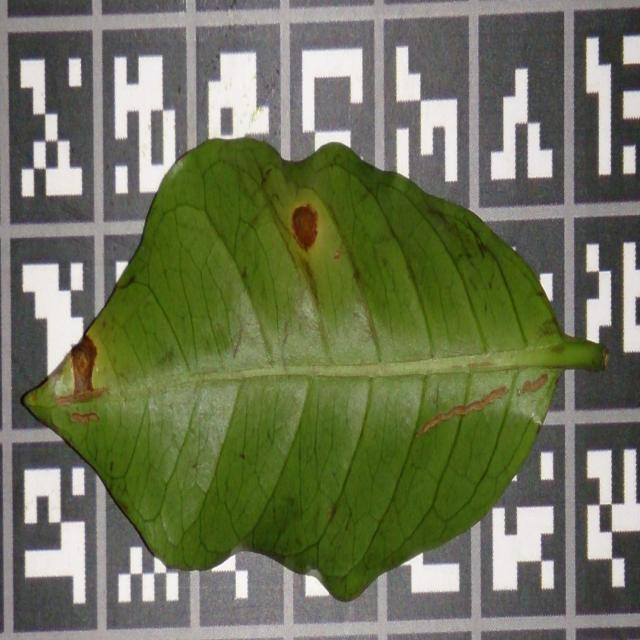Enfermedad-Mancha-de-hierro: (22, 138, 607, 604)
